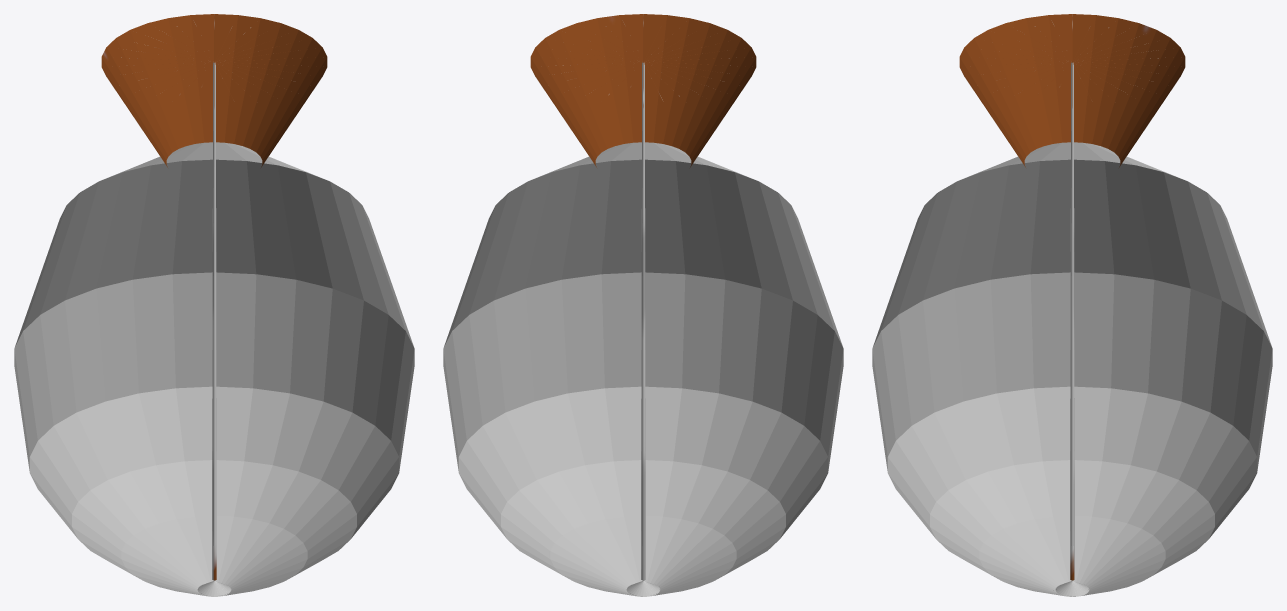
3 views of the same model, side by side, from view 1: azimuth 30°, elevation 25°; view 2: azimuth 150°, elevation 25°; view 3: azimuth 270°, elevation 25° (orthographic).
Parts seen in each view (by area): view 1: algeomath (1); view 2: algeomath (1); view 3: algeomath (1).
Boxes of the visible parts, x1,y1,x2,y2 form: algeomath (1): [14, 14, 414, 596]; algeomath (1): [443, 14, 843, 596]; algeomath (1): [872, 14, 1272, 596].
Size of the model in its own units: 0.2072 by 0.3 by 0.2061.
Materials: 1 (1 with a texture image).
